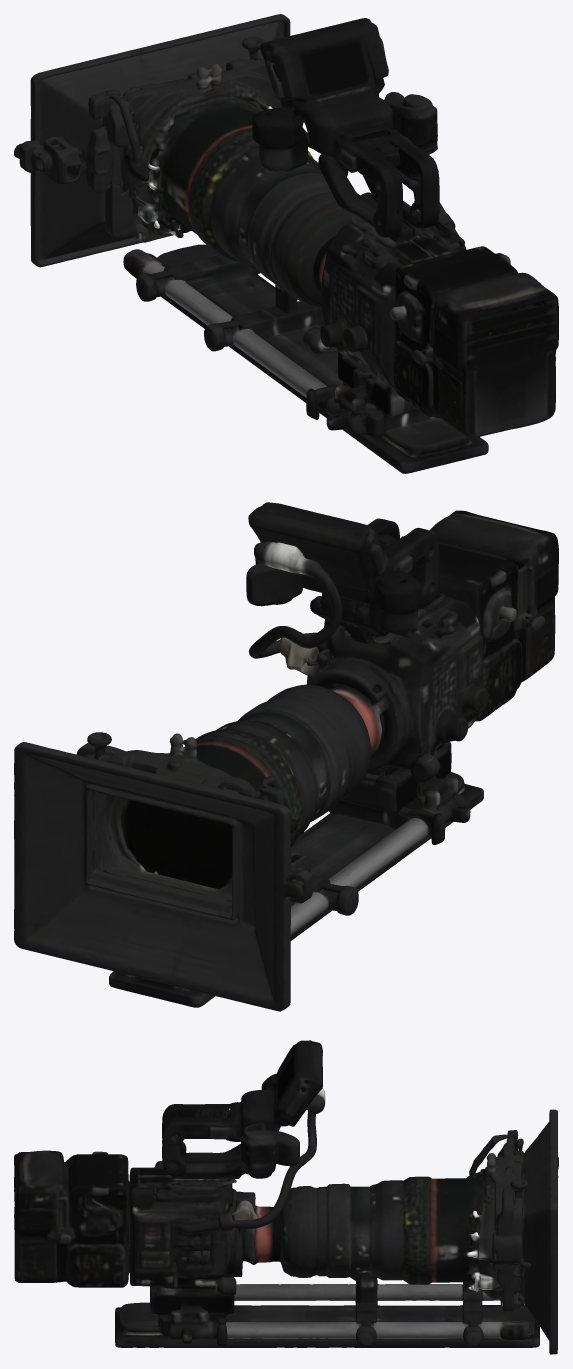
The model's file is cinema_camera.glb.
3 views of the same model, one above another, from view 1: azimuth 30°, elevation 25°; view 2: azimuth 150°, elevation 25°; view 3: azimuth 270°, elevation 25° (orthographic). The views are drawn at different scales.
Parts seen in each view (by area): view 1: geometry_0; view 2: geometry_0; view 3: geometry_0.
Boxes of the visible parts, <box> form: geometry_0: <box>14,14,558,473</box>; geometry_0: <box>14,502,558,1011</box>; geometry_0: <box>14,1040,558,1354</box>.
Bounding box in the file's own units: 0.4552 × 0.5513 × 1.
1 material, 1 textured.
